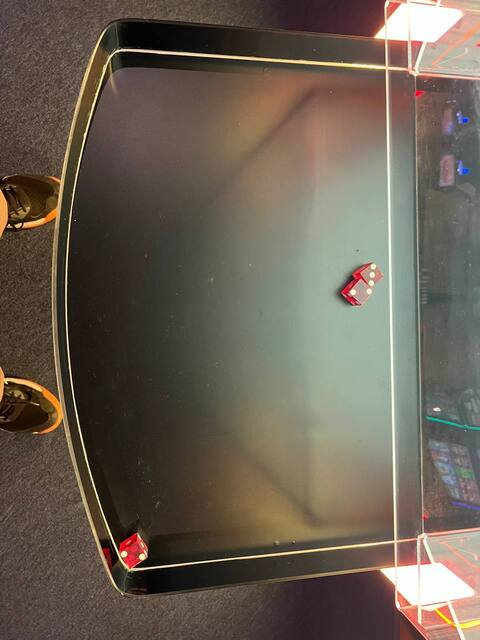three: (360, 261, 384, 287)
two: (117, 539, 148, 571), (342, 281, 373, 309)
